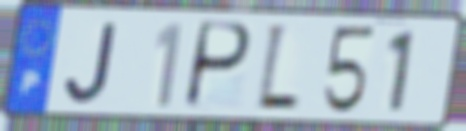1: (384, 28, 421, 114), (153, 20, 185, 109)
5: (321, 23, 380, 116)
J: (63, 20, 121, 106)
L: (253, 19, 303, 116)
P: (180, 18, 254, 113)
